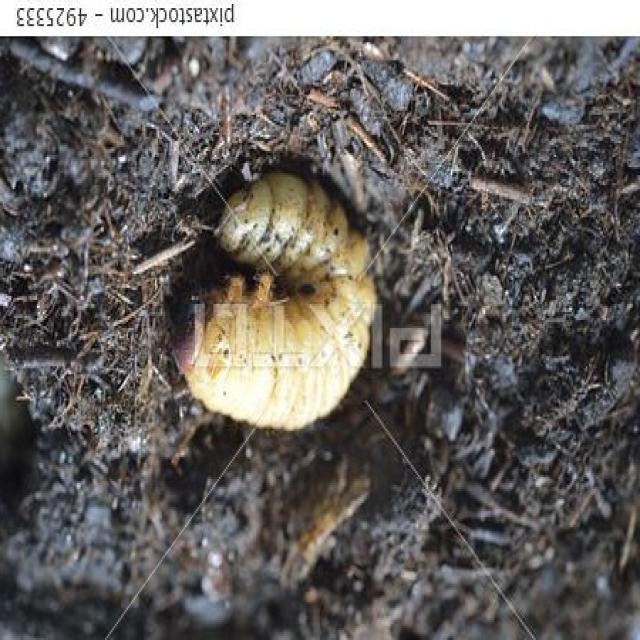grub: (168, 161, 380, 433)
